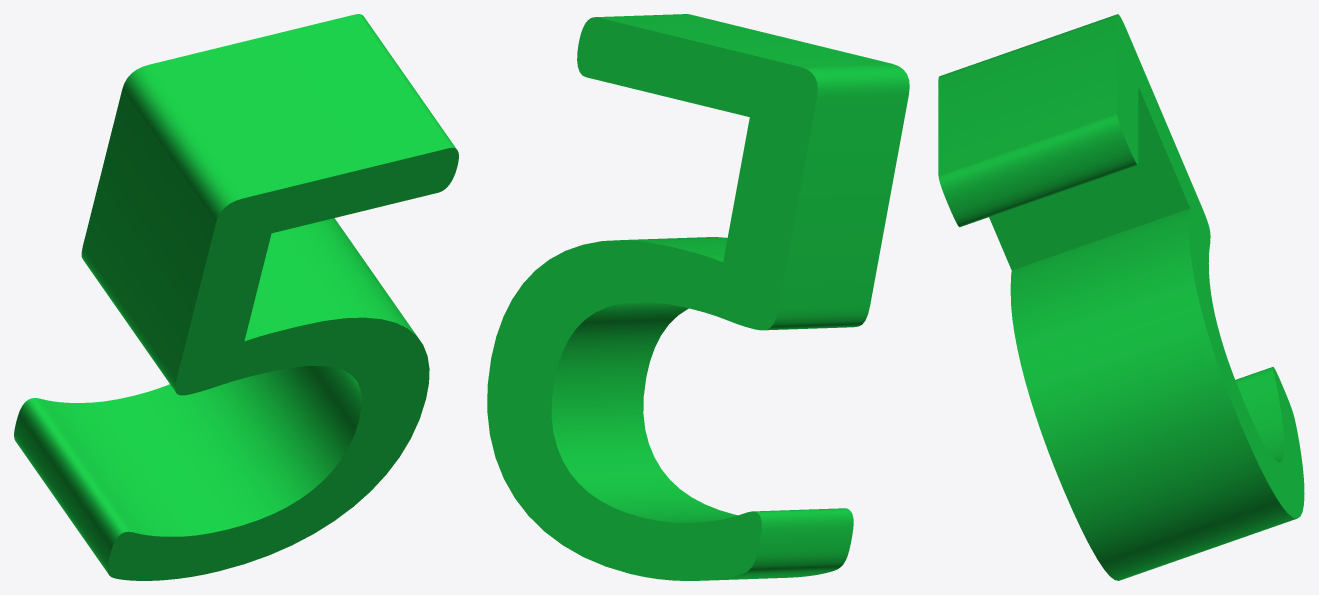
3 renders of one model, left to right at view 1: azimuth 30°, elevation 25°; view 2: azimuth 150°, elevation 25°; view 3: azimuth 270°, elevation 25°, orthographic. The views are drawn at different scales.
Parts seen in each view (by area): view 1: node_id133; view 2: node_id133; view 3: node_id133.
Boxes of the visible parts, x1,y1,x2,y2 form: node_id133: (14,14,458,580); node_id133: (487,14,909,580); node_id133: (938,14,1304,580).
Size of the model in its own units: 0.0255 by 0.0436 by 0.0287.
Materials: 1 (1 with a texture image).
